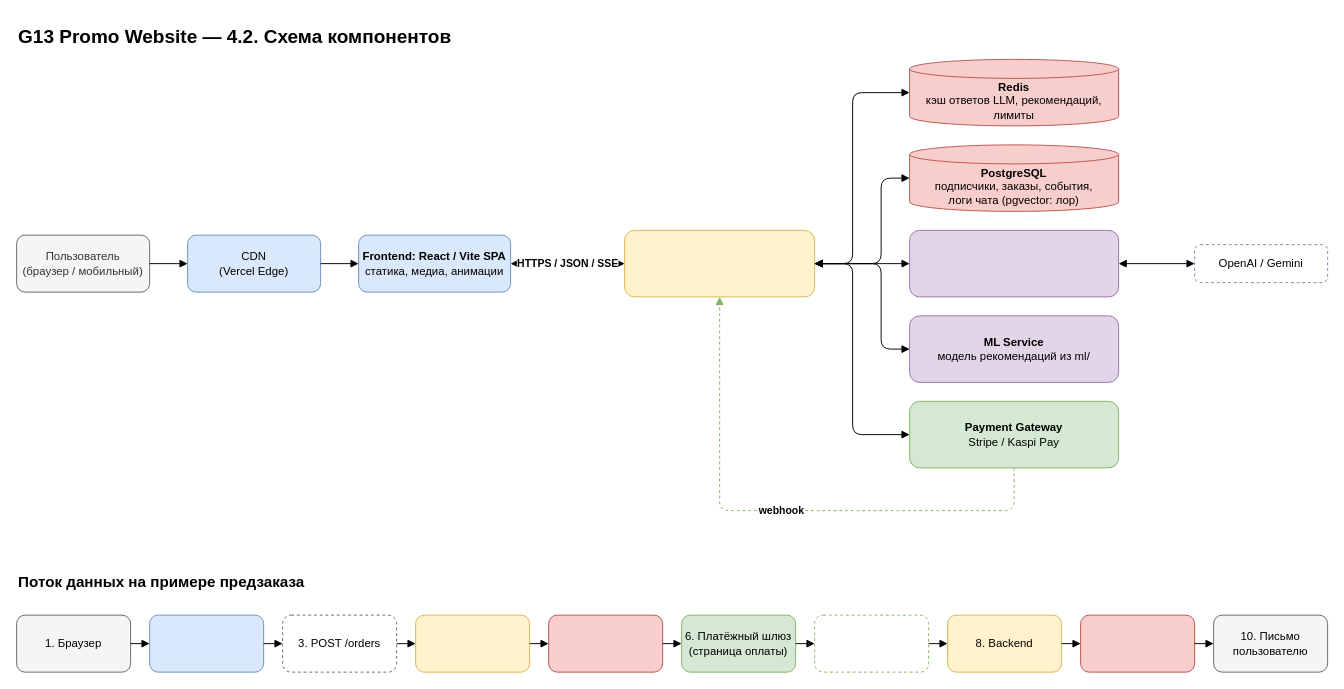
This 1344x689 diagram has some shape labels left out. The shapes that lost their labels are listed below. From the top down, each one's centre as x and y in pixels, then its label:
(x=719, y=263): API Gateway / Backend: FastAPI auth, валидация, rate limit, CORS
(x=1014, y=263): LLM Service LangChain, потоковые ответы
(x=206, y=643): 2. Frontend
(x=472, y=643): 4. Backend
(x=605, y=643): 5. PostgreSQL: заказ pending
(x=871, y=643): 7. webhook
(x=1137, y=643): 9. PostgreSQL: заказ paid
